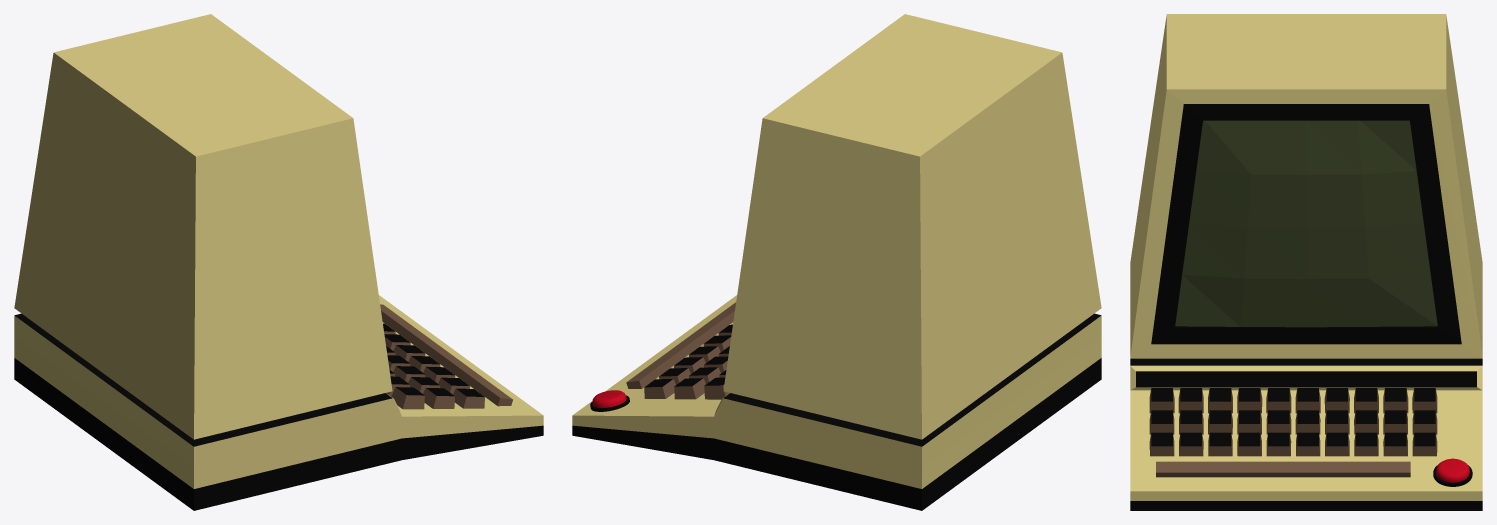
File: PC_Main.fbx
3 renders of one model, left to right at view 1: azimuth 30°, elevation 25°; view 2: azimuth 150°, elevation 25°; view 3: azimuth 270°, elevation 25°, orthographic.
Visible parts, largest first — view 1: Body, polySurface3, polySurface4; view 2: Body, polySurface3, Red_Button, polySurface14; view 3: Body, polySurface3, Red_Button, polySurface33, polySurface24, polySurface28, polySurface25, polySurface32, polySurface26, polySurface31, polySurface30, polySurface27 (+21 smaller).
Part boxes in pixels (box(x1,y1,x2,y2)): Body: box(14, 14, 543, 510); polySurface3: box(380, 304, 512, 406); polySurface4: box(391, 387, 424, 409); Body: box(572, 14, 1101, 510); polySurface3: box(626, 302, 735, 388); Red_Button: box(590, 390, 629, 411); polySurface14: box(674, 378, 705, 399); Body: box(1130, 14, 1482, 510); polySurface3: box(1156, 461, 1410, 477); Red_Button: box(1433, 458, 1472, 486); polySurface33: box(1412, 432, 1437, 456); polySurface24: box(1149, 432, 1174, 456); polySurface28: box(1266, 432, 1291, 456); polySurface25: box(1179, 432, 1203, 456); polySurface32: box(1383, 432, 1407, 456); polySurface26: box(1208, 432, 1232, 456); polySurface31: box(1354, 432, 1378, 456); polySurface30: box(1325, 432, 1349, 456); polySurface27: box(1237, 432, 1261, 456).
Bounding box in the file's own units: 3.6 × 3.4 × 3.2.
